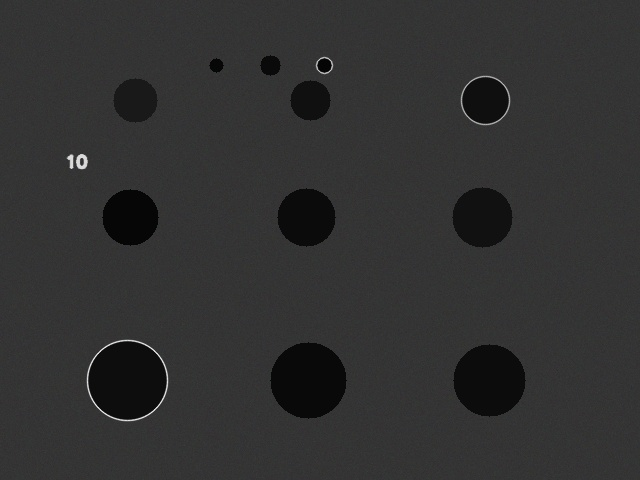hole: (87, 340, 167, 420), (270, 342, 346, 418), (453, 344, 525, 416), (452, 187, 512, 247), (277, 188, 335, 246), (102, 189, 158, 245), (461, 76, 509, 124), (113, 78, 157, 122), (290, 80, 330, 120), (260, 55, 280, 75), (316, 57, 332, 73), (209, 58, 223, 72)
